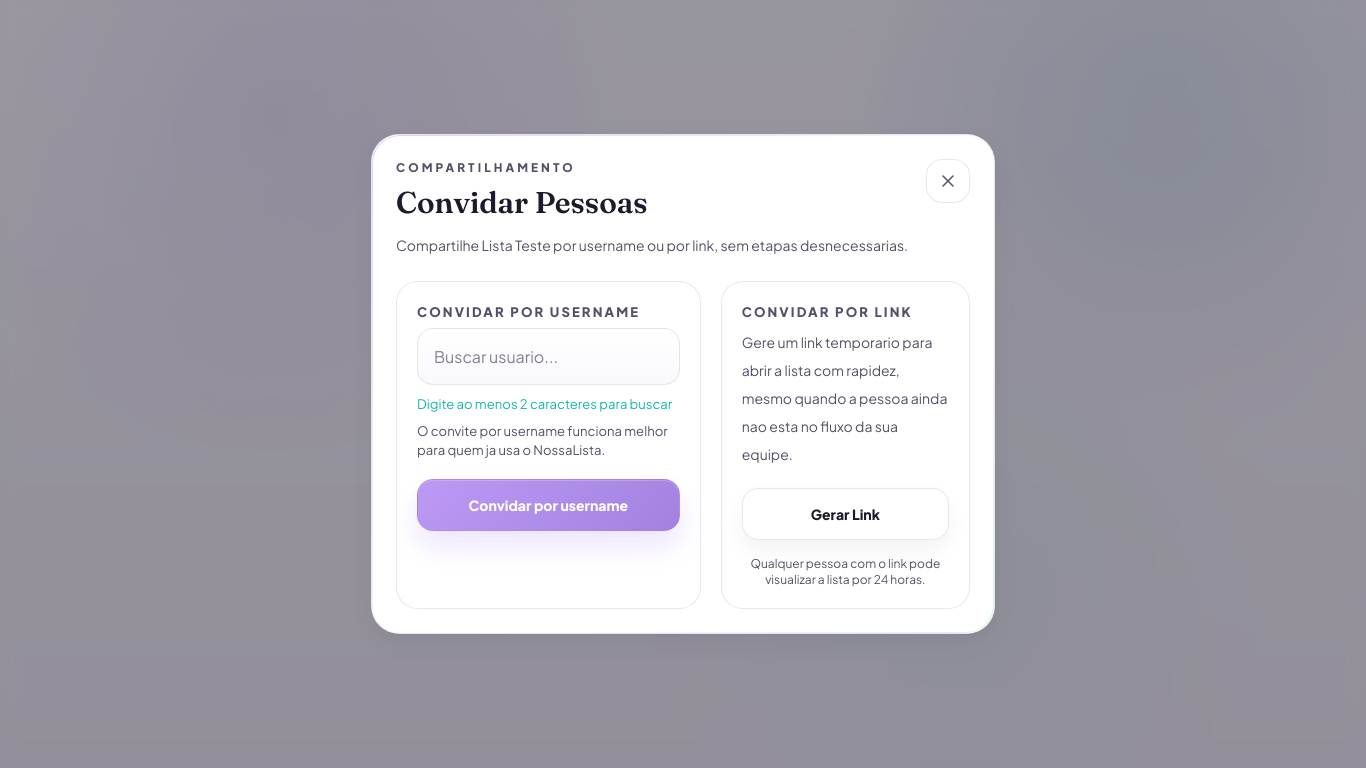
Test case: InviteModal - convite por username › usa mensagem padrão quando o erro do convite não é uma Error
Type "leo" into the field with placeholder "Buscar usuario..." at (548, 357), box [417, 328, 680, 385]
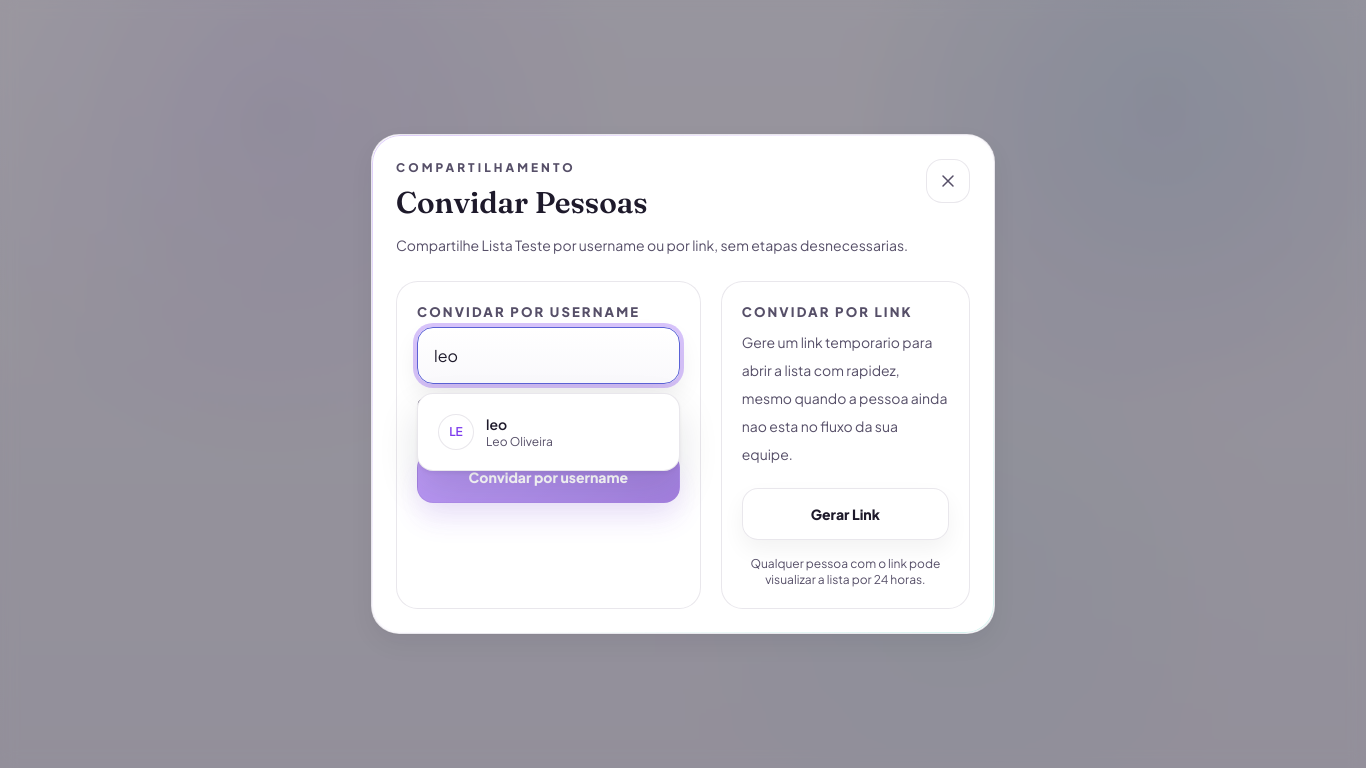
Click the button "LE leo Leo Oliveira" at (548, 432), box [426, 402, 671, 462]
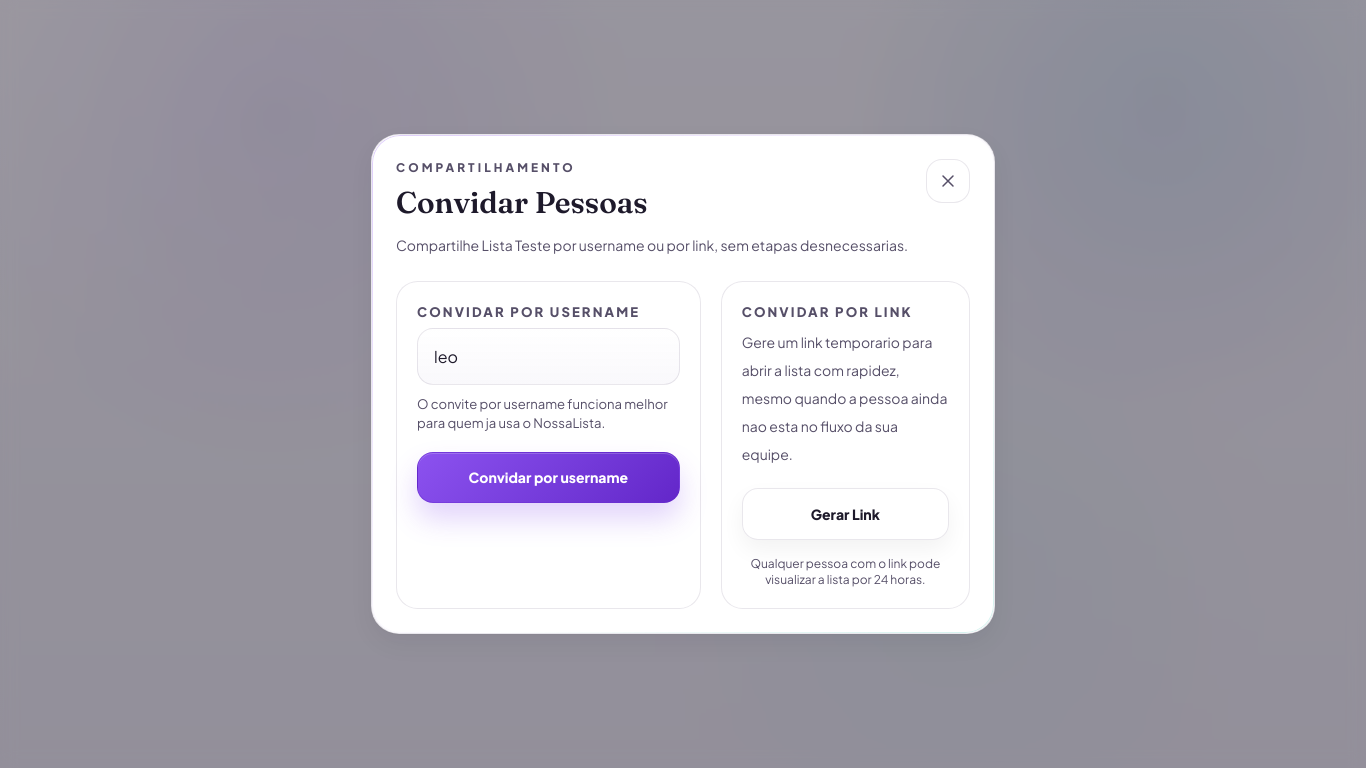
Click the button "Convidar por username" at (548, 478), box [417, 452, 680, 504]
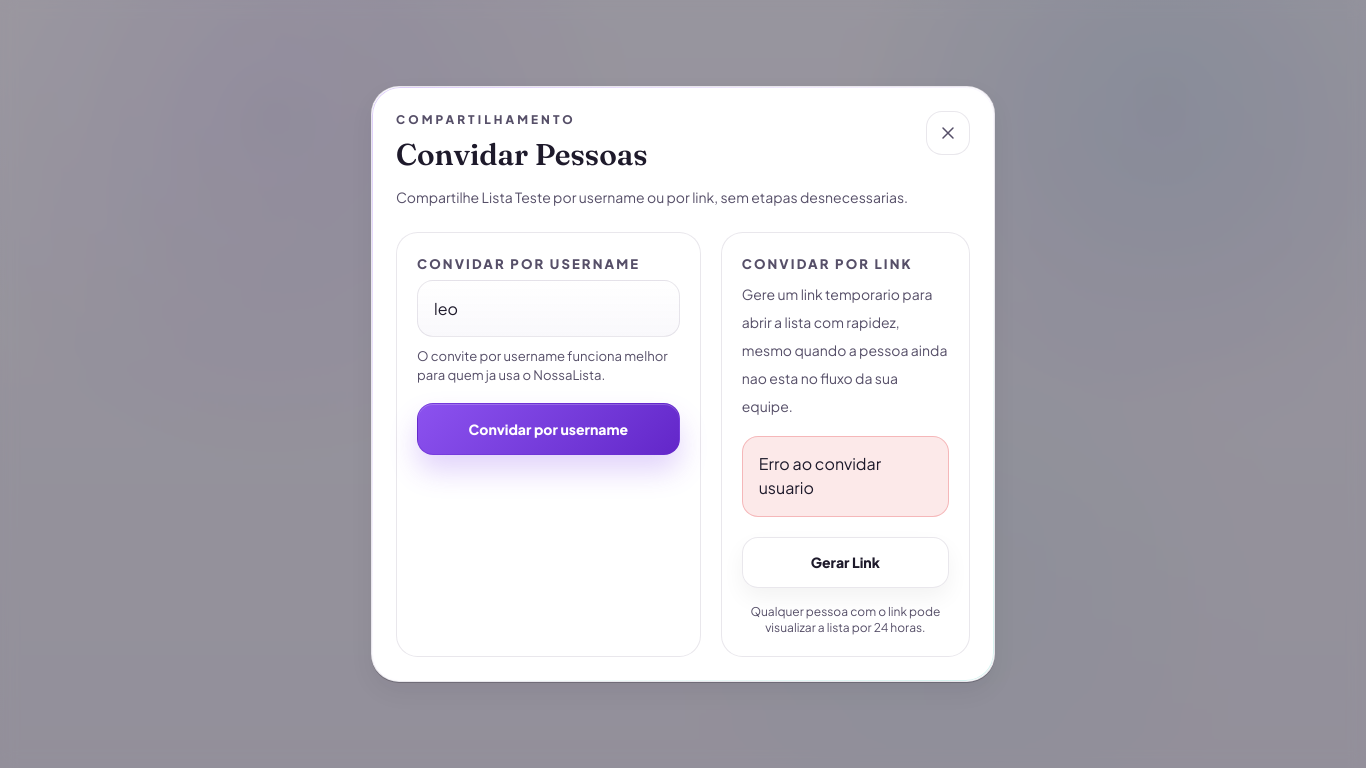
Check: the text "Erro ao convidar usuario" is shown, box [742, 436, 949, 517]
